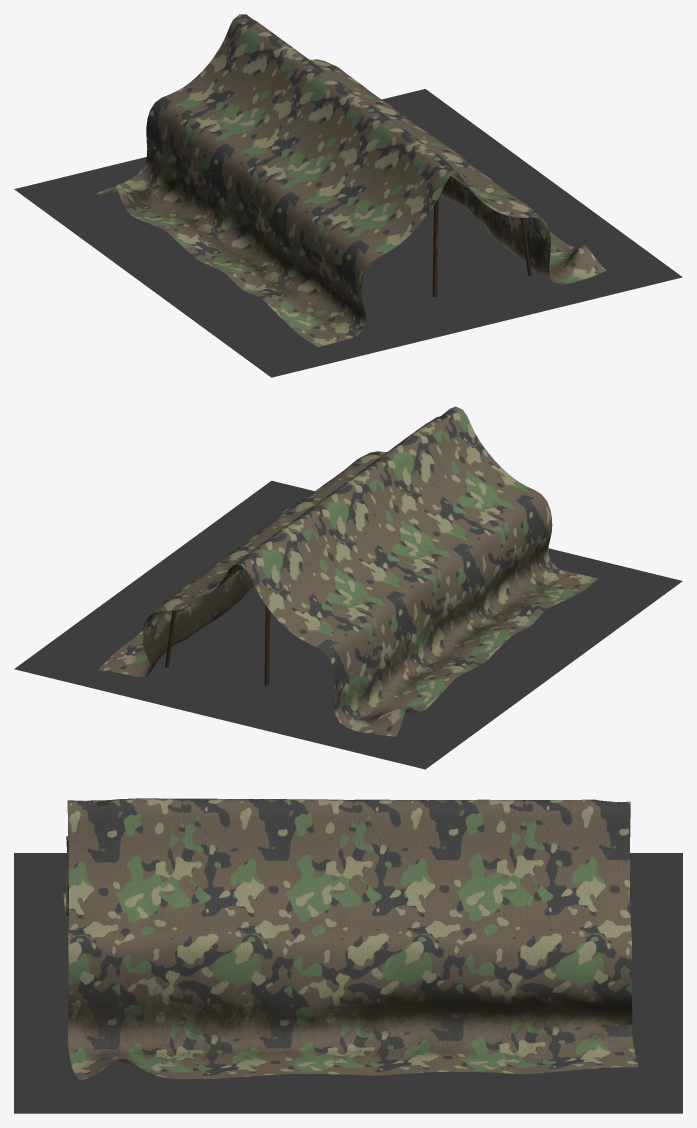
File: military_tent_desert.glb
3 views of the same model, one above another, from view 1: azimuth 30°, elevation 25°; view 2: azimuth 150°, elevation 25°; view 3: azimuth 270°, elevation 25° (orthographic). The views are drawn at different scales.
Visible parts, largest first — view 1: 02_02_0, 01_01_0; view 2: 02_02_0, 01_01_0; view 3: 02_02_0, 01_01_0.
Part boxes in pixels (bbox=[...]): 02_02_0: bbox=[95, 14, 606, 347]; 01_01_0: bbox=[14, 89, 682, 377]; 02_02_0: bbox=[98, 406, 598, 736]; 01_01_0: bbox=[14, 480, 682, 769]; 02_02_0: bbox=[63, 798, 638, 1080]; 01_01_0: bbox=[14, 853, 682, 1113].
Bounding box in the file's own units: 6.14 × 2.07 × 6.66.
Materials: 2 (1 with a texture image).
